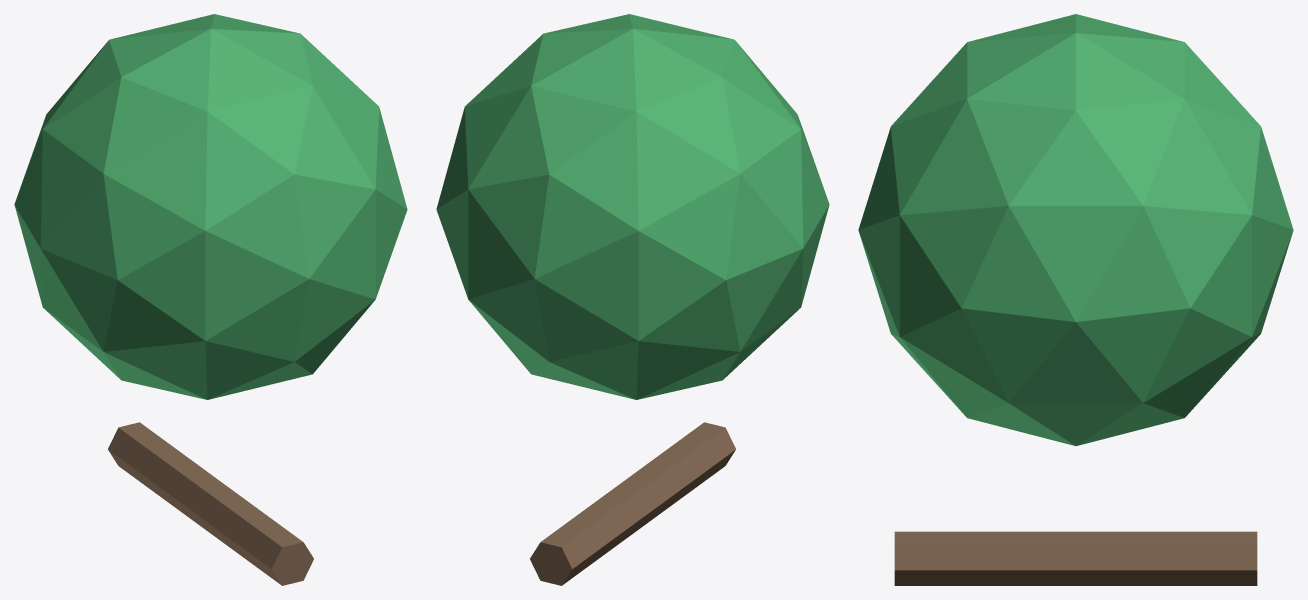
The model's file is tree_oak.glb.
3 views of the same model, side by side, from view 1: azimuth 30°, elevation 25°; view 2: azimuth 150°, elevation 25°; view 3: azimuth 270°, elevation 25° (orthographic). The views are drawn at different scales.
Visible parts, largest first — view 1: world; view 2: world; view 3: world.
Boxes of the visible parts, left/top/right/bottom form: world: left=14, top=14, right=407, bottom=585; world: left=436, top=14, right=829, bottom=585; world: left=858, top=14, right=1293, bottom=585.
Bounding box in the file's own units: 2.4 × 3.33 × 2.4.
